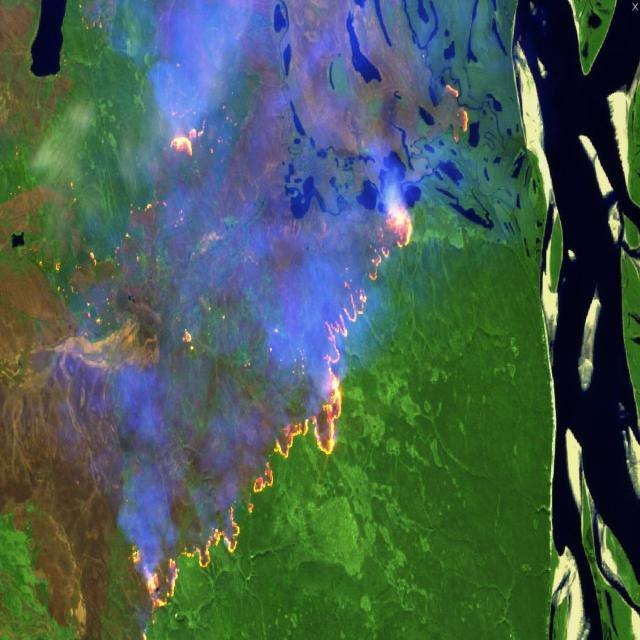fire: (54, 0, 471, 640)
